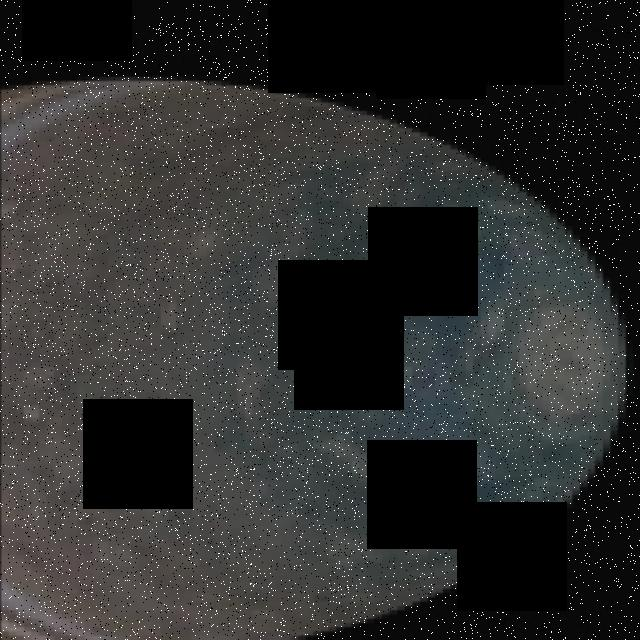Jupiter: (0, 77, 625, 640)
